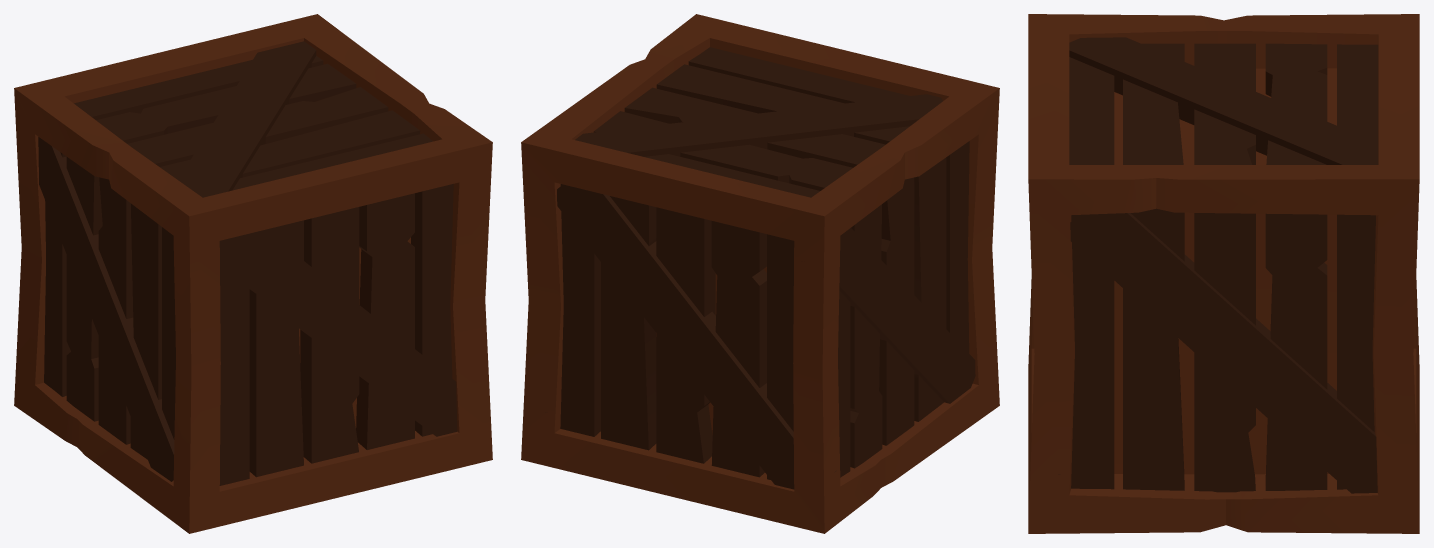
The model's file is Village_Crate.glb.
3 renders of one model, left to right at view 1: azimuth 30°, elevation 25°; view 2: azimuth 150°, elevation 25°; view 3: azimuth 270°, elevation 25°, orthographic. The views are drawn at different scales.
Parts seen in each view (by area): view 1: Crate; view 2: Crate; view 3: Crate.
Part boxes in pixels (x1=…): Crate: x1=14, y1=14, x2=492, y2=533; Crate: x1=521, y1=14, x2=999, y2=533; Crate: x1=1028, y1=14, x2=1419, y2=533.
Bounding box in the file's own units: 16.02 × 16.02 × 16.02.
